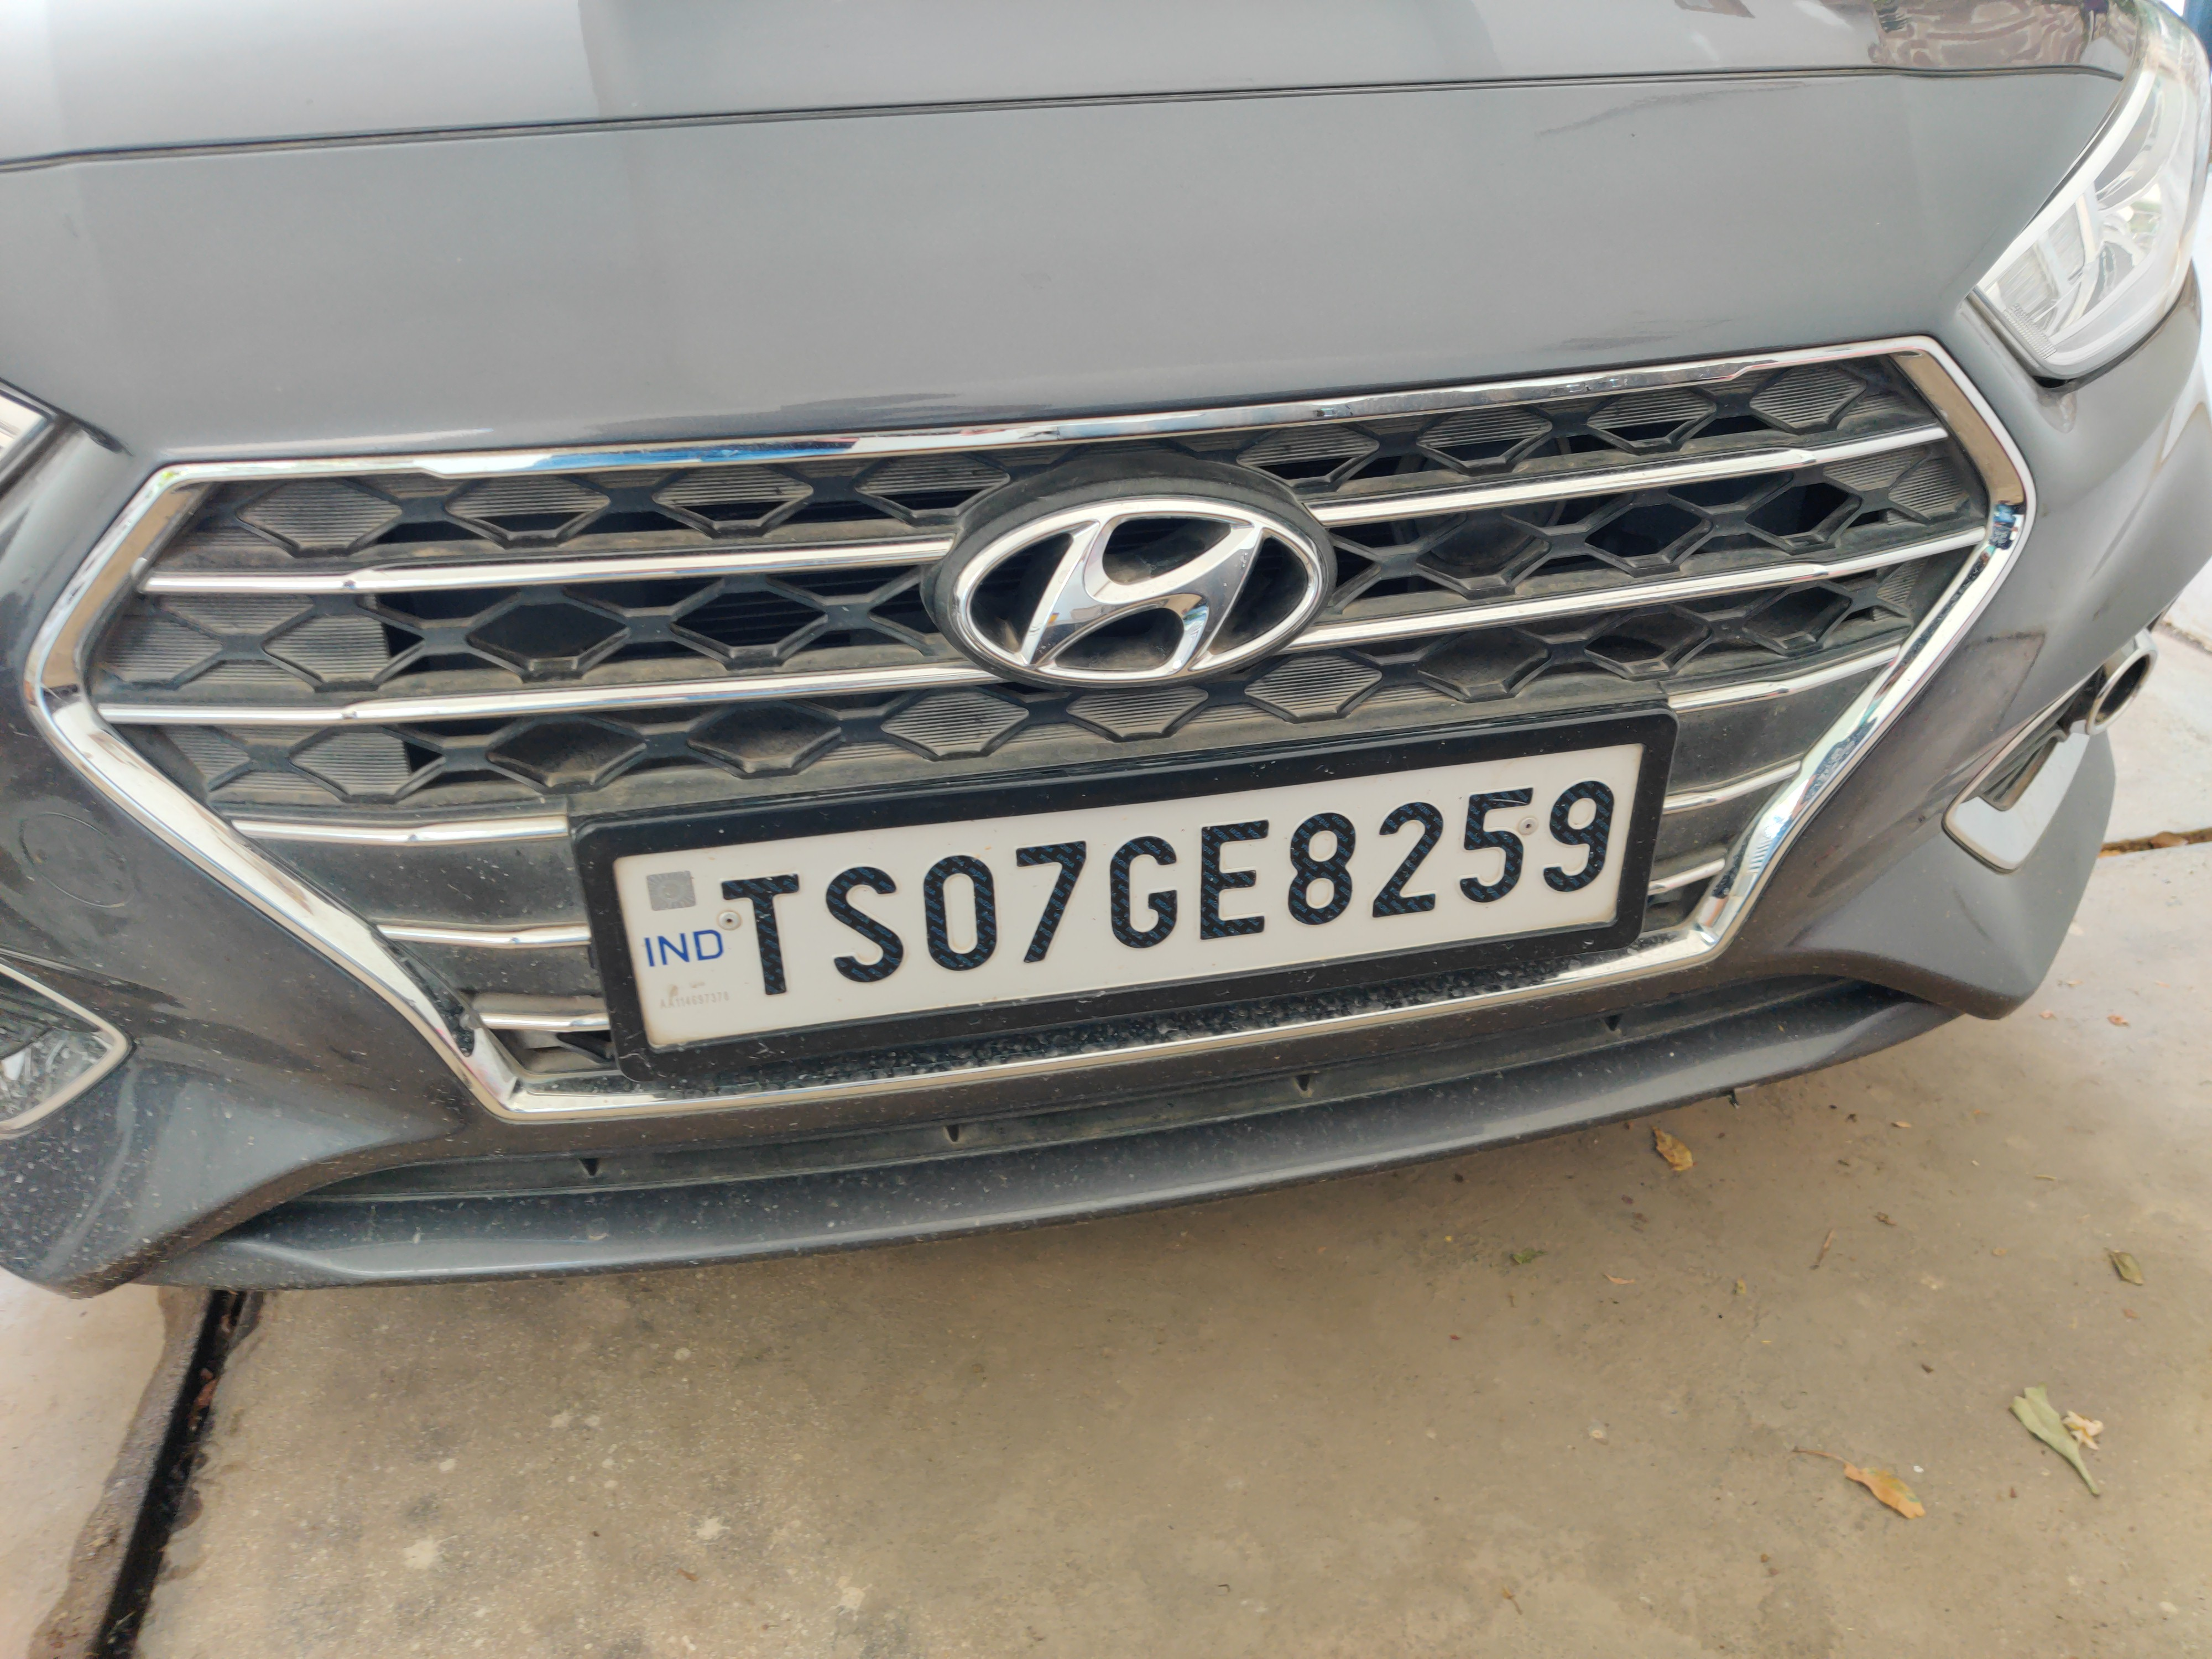plate: (544, 688, 1696, 1121)
